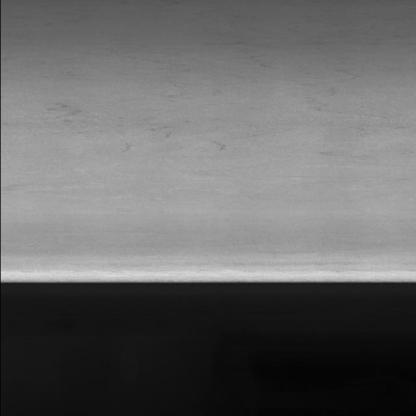silk_spot: (29, 53, 349, 163)
